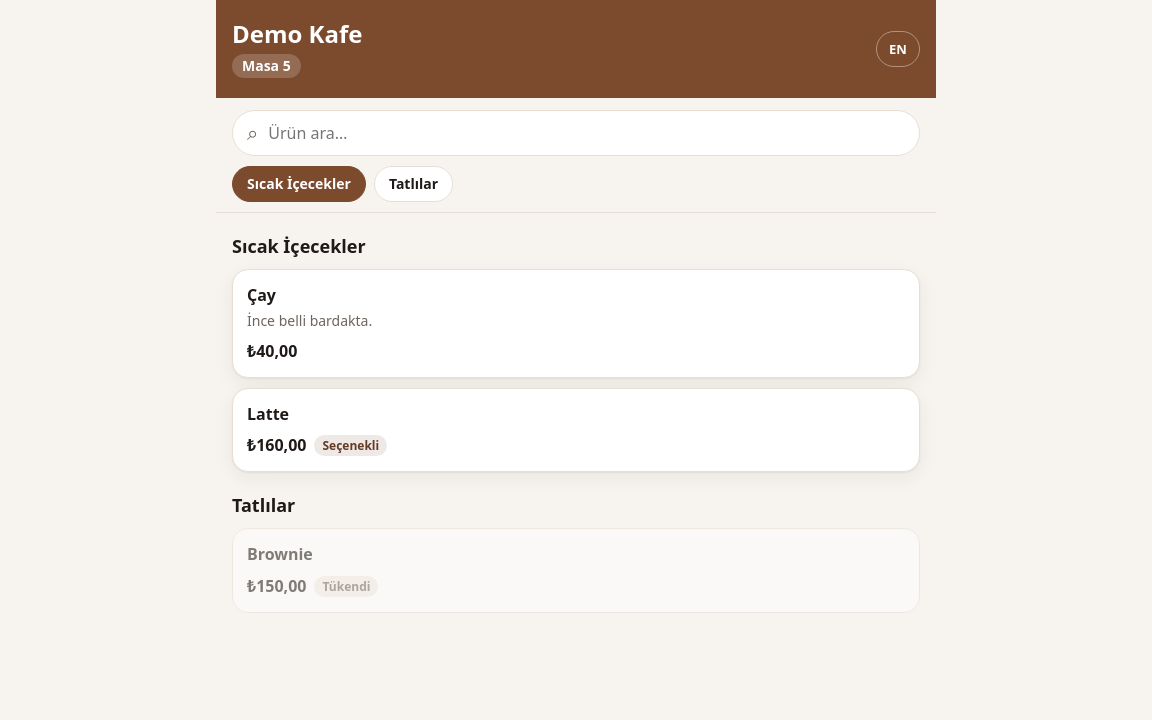
Test: checkout › validates the card before sending anything
Click the button "Çay İnce belli bardakta. ₺40,00" at (310, 321), box [232, 269, 920, 378]
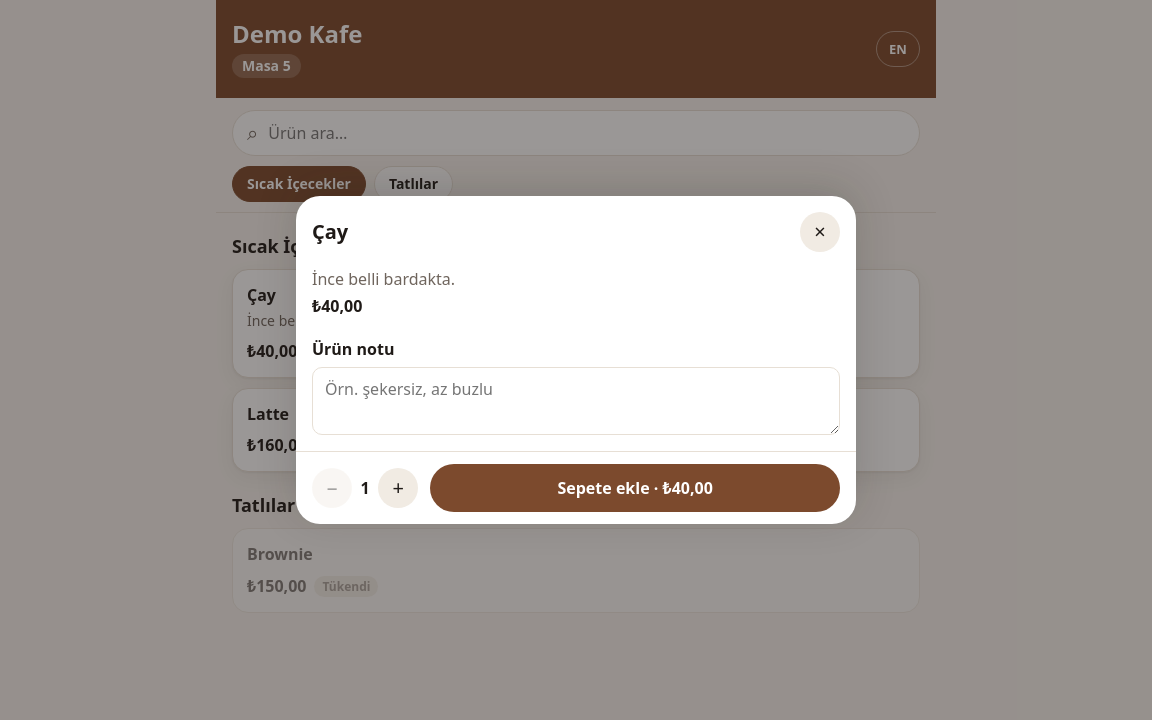
Click the button named "Artır" at (398, 488), box [378, 468, 418, 508]
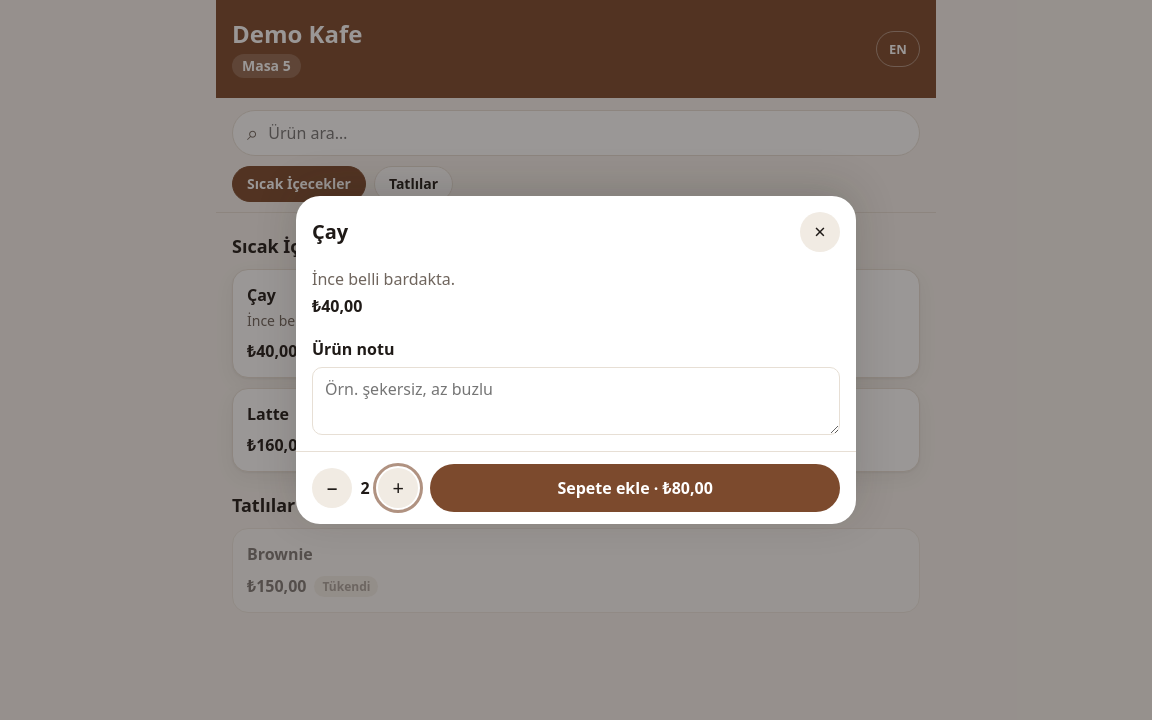
Type "Demli" into the text box labelled "Ürün notu" at (576, 401), box [312, 367, 840, 436]
Click the button "Sepete ekle · ₺80,00" at (635, 488), box [430, 464, 840, 512]
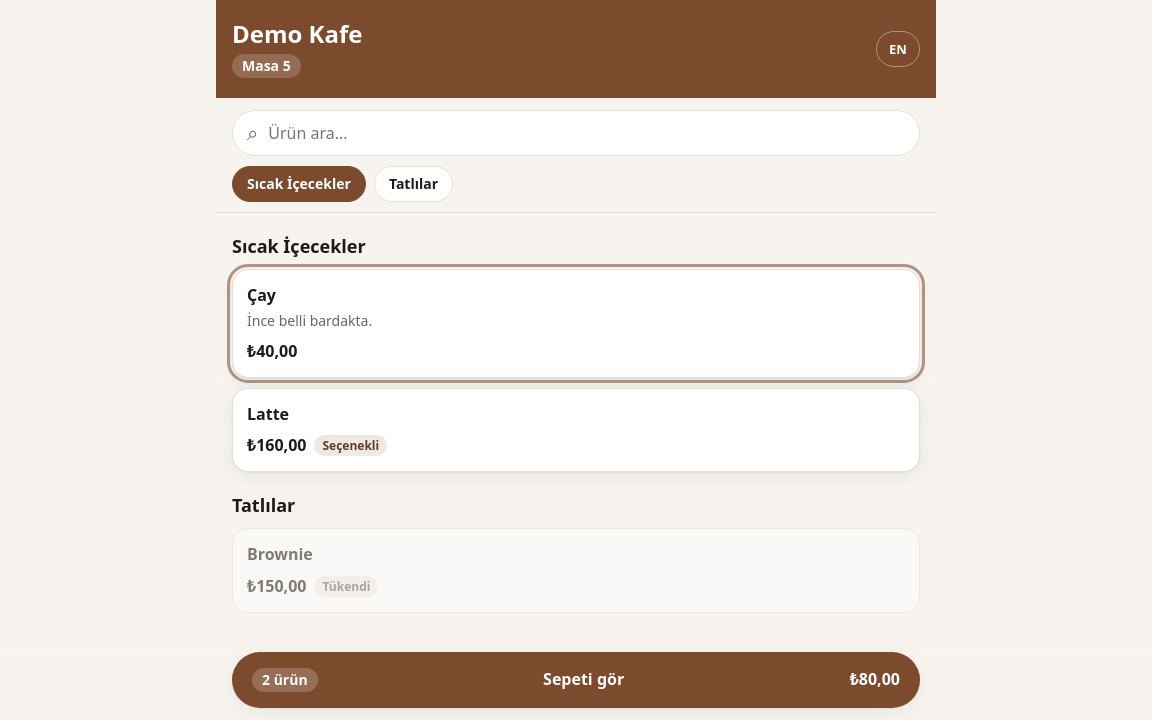
Click the button "2 ürün Sepeti gör ₺80,00" at (576, 680), box [232, 652, 920, 708]
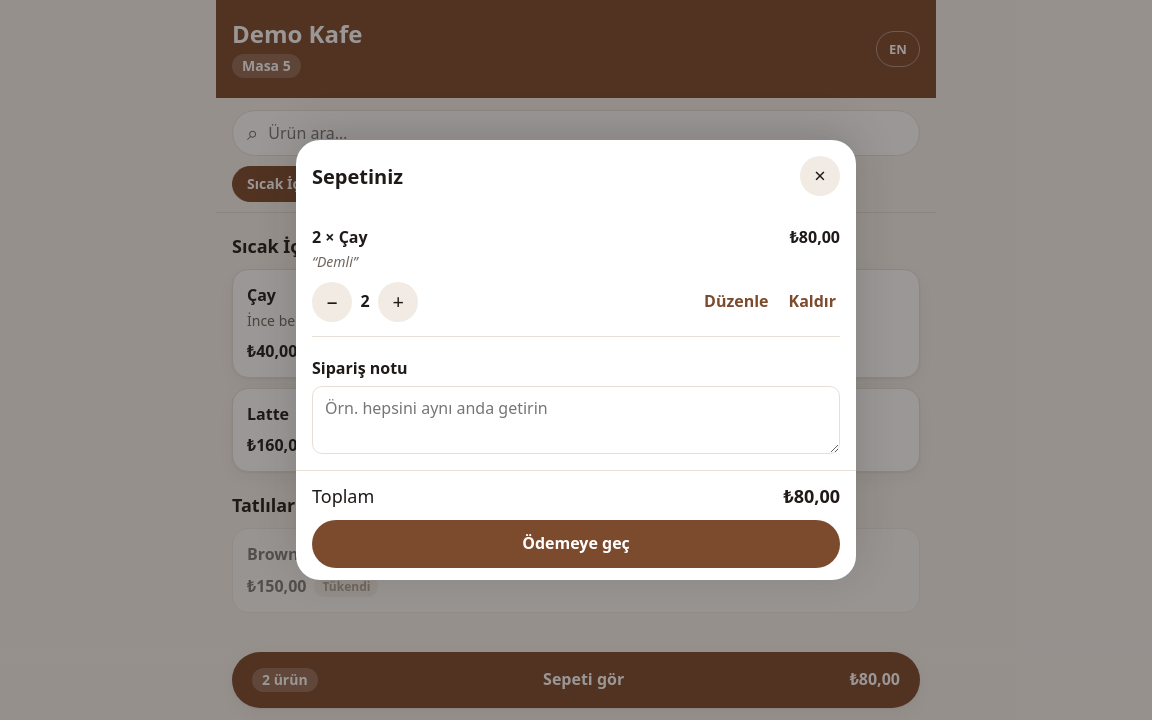
Type "Çabuk lütfen" into the text box labelled "Sipariş notu" at (576, 420), box [312, 386, 840, 454]
Click the button "Ödemeye geç" at (576, 544), box [312, 520, 840, 568]
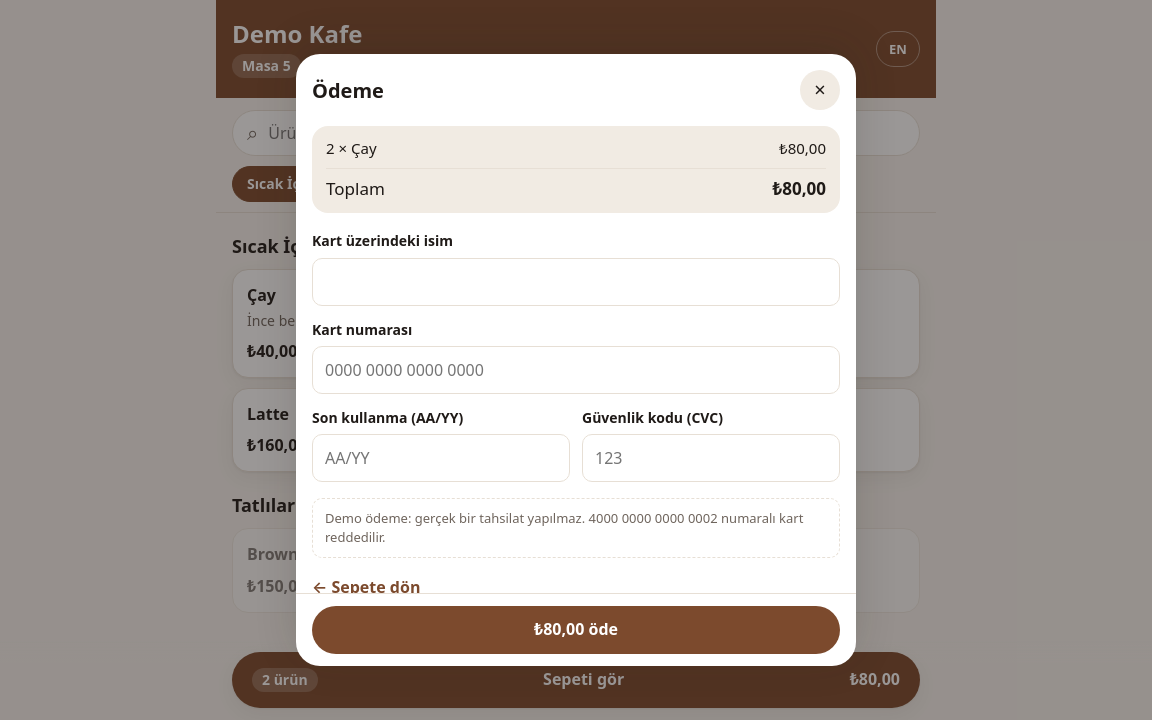
Click the button "₺80,00 öde" at (576, 630), box [312, 606, 840, 654]
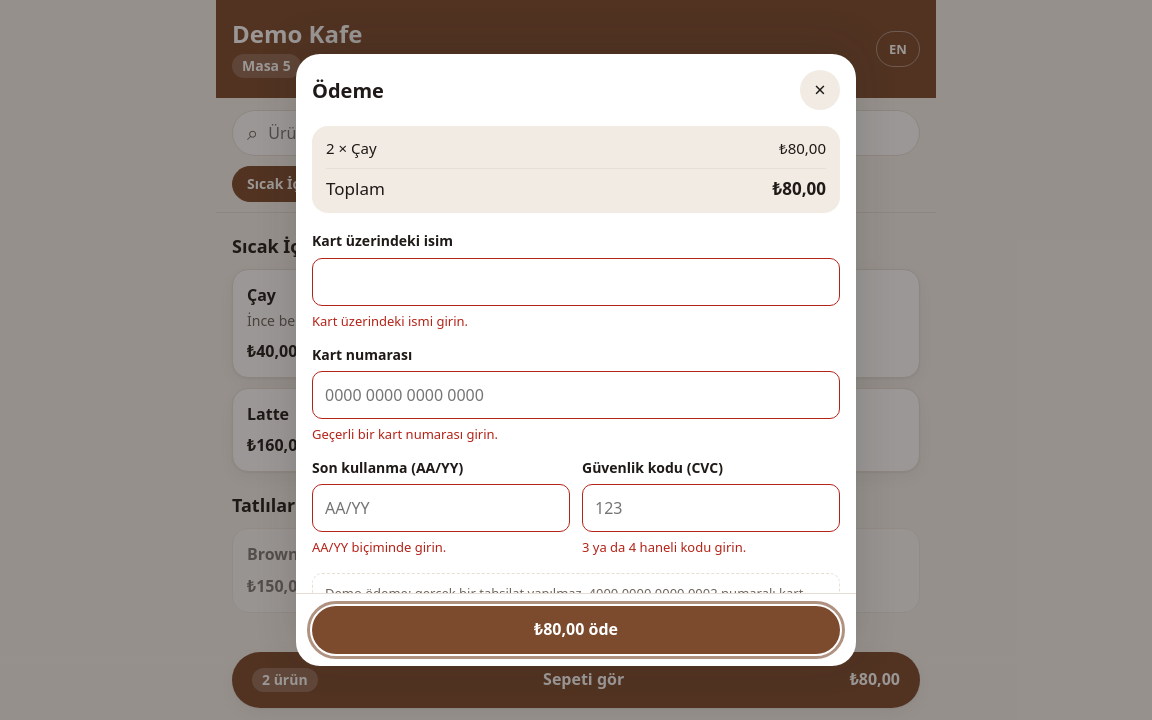
Expected: the text "Kart üzerindeki ismi girin." is shown, [312, 312, 468, 330]
Expected: the text "Geçerli bir kart numarası girin." is shown, [312, 425, 498, 443]
Expected: the text "AA/YY biçiminde girin." is shown, [312, 538, 446, 556]
